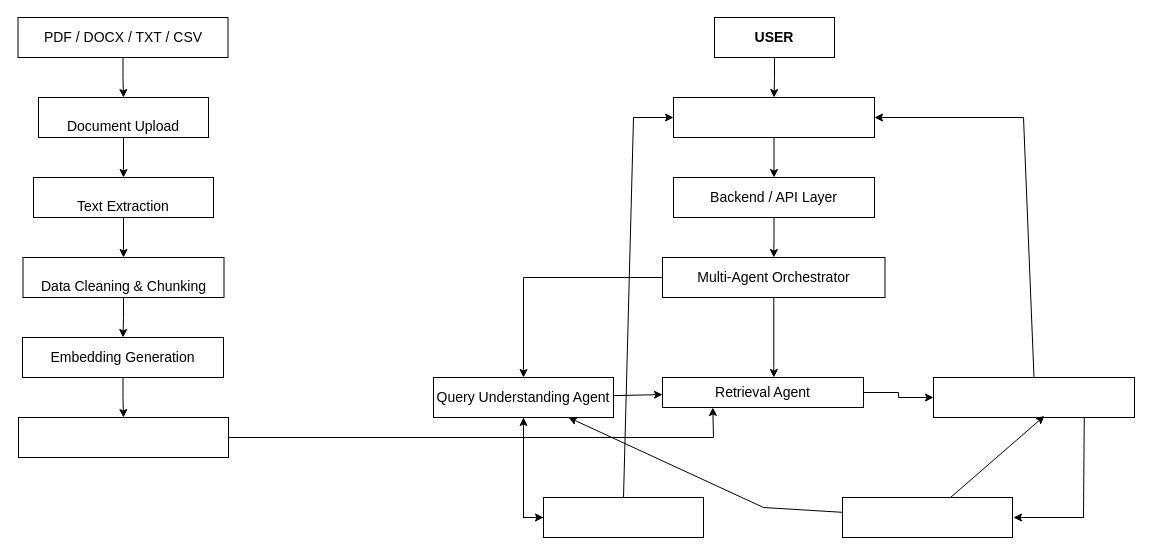
Some shapes in this 1152 by 555 pixel diagram are drawn without their labels. Here are the shapes that lost their labels. From the top down, the centre of each, then its label:
At [773,117]: "Web Interface / UI".
At [1033,397]: "Response Generation Agent".
At [123,437]: "Vector Store".
At [623,517]: "Clarification Agent".
At [927,517]: "Conversation Memory Agent".
